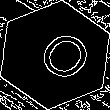O_SW: (20, 22, 90, 88)
